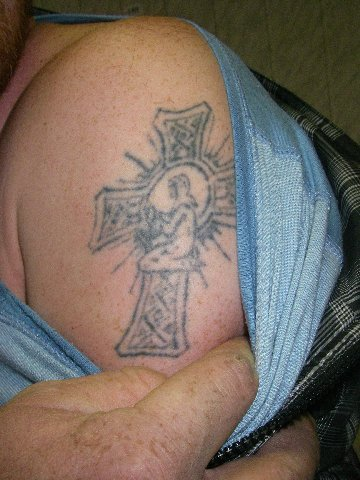tatu9_krest: (95, 101, 236, 361)
